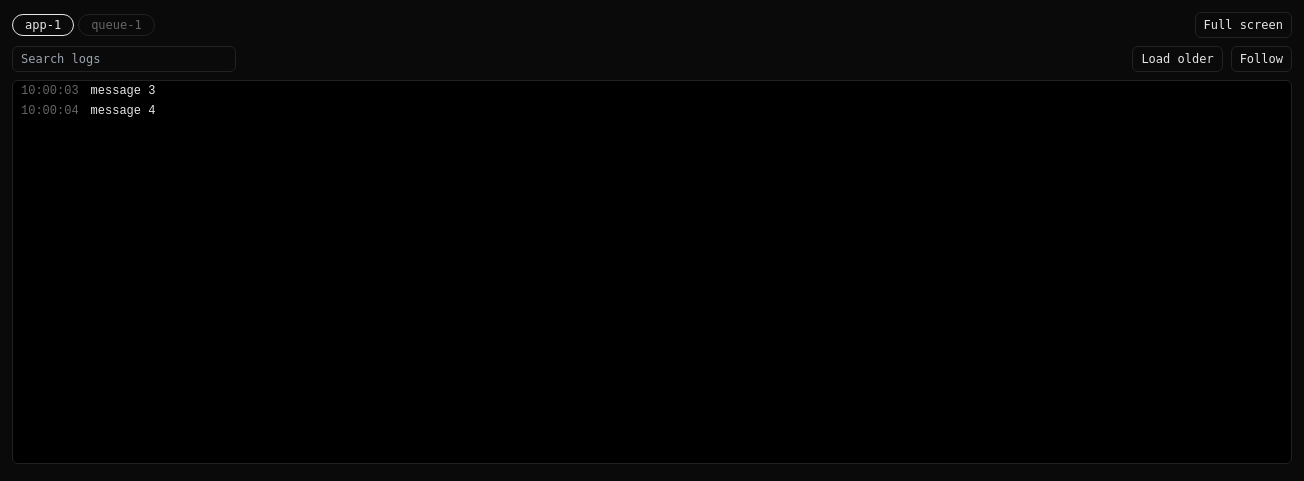
Scenario: LogViewer › loads older lines before the oldest timestamp and shows them first
Expected: the text "message 3" is shown, [91, 81, 155, 101]
Click the button "Load older": click(1178, 59) [1132, 46, 1223, 72]
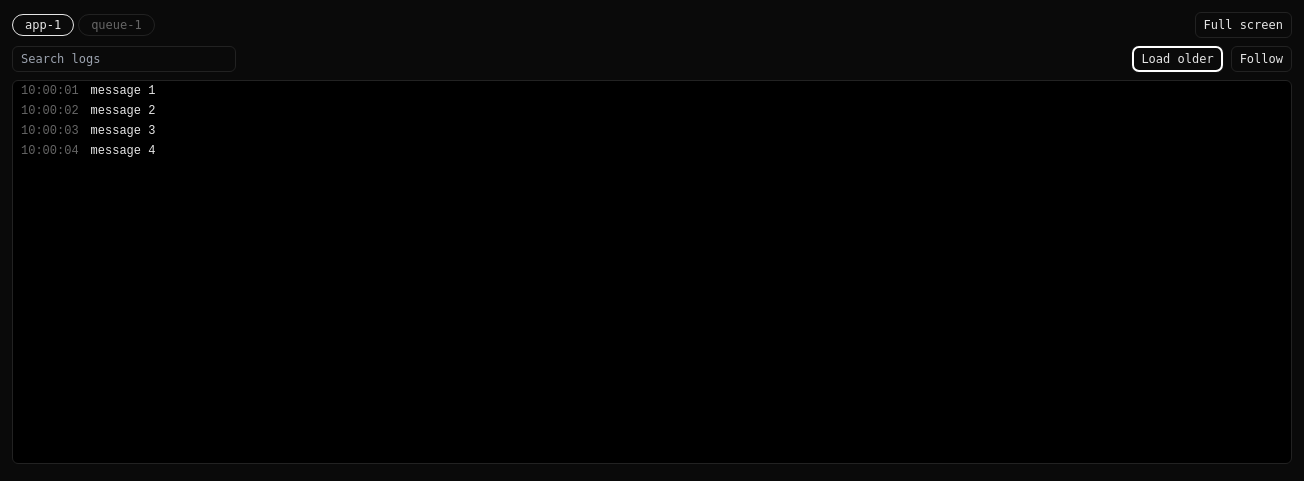
Expected: the element with test id "log-line" shows "message 1", [91, 84, 155, 98]
